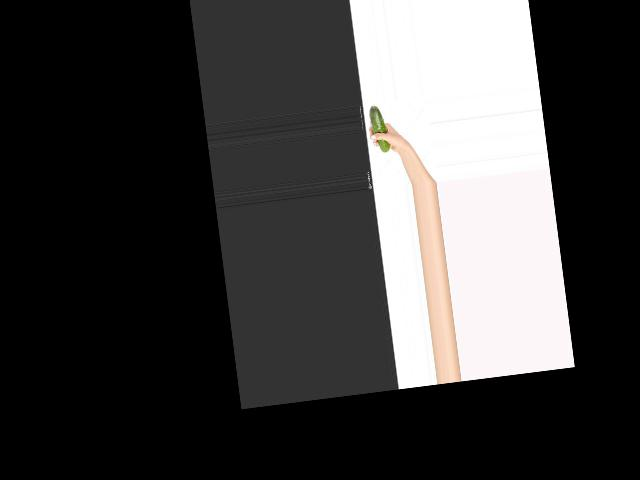cucumber: (367, 103, 390, 153)
